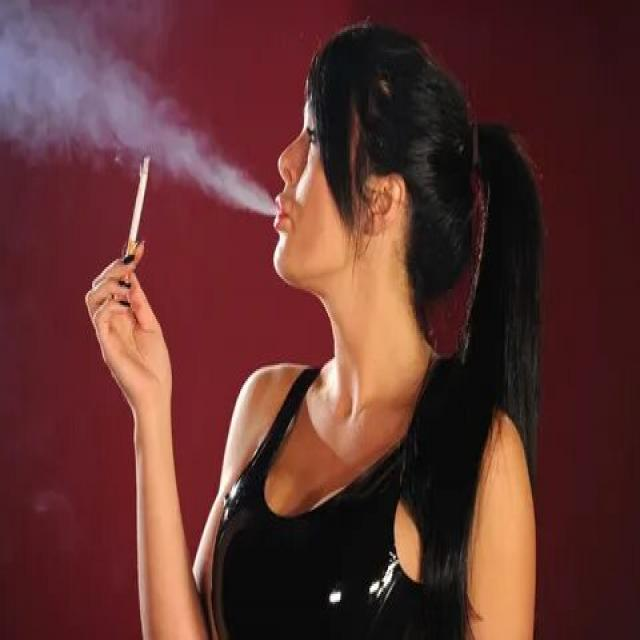smoke: (121, 150, 156, 271)
